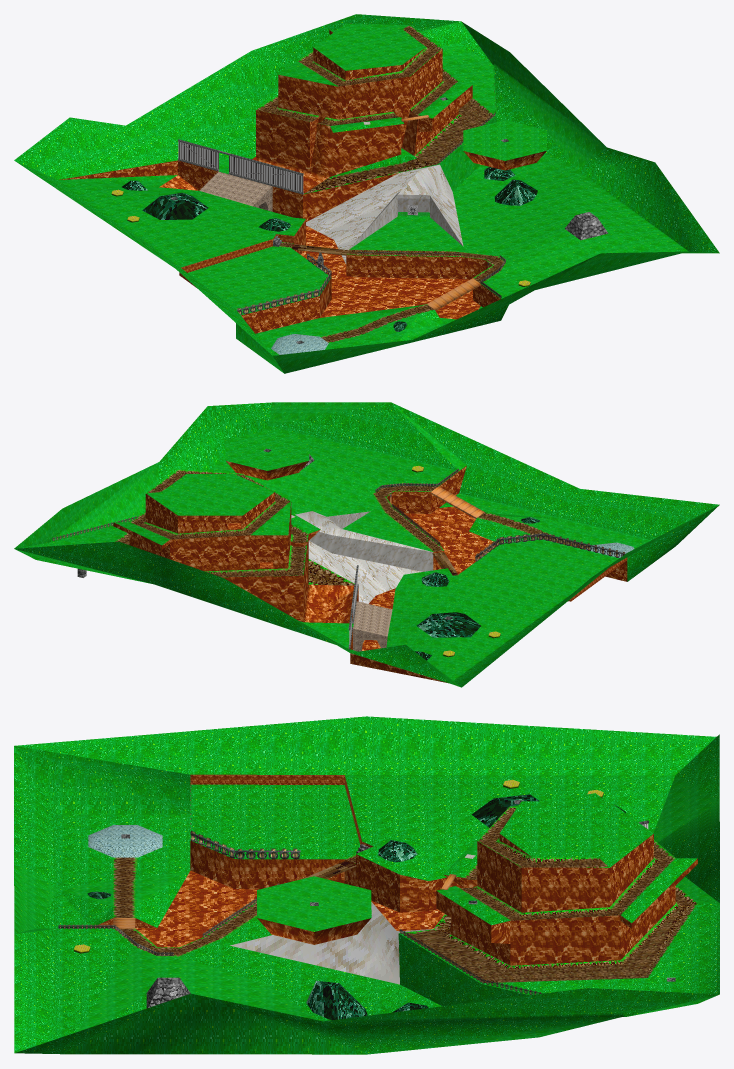
Rendered from map.glb.
3 views of the same model, one above another, from view 1: azimuth 30°, elevation 25°; view 2: azimuth 150°, elevation 25°; view 3: azimuth 270°, elevation 25° (orthographic). The views are drawn at different scales.
Parts seen in each view (by area): view 1: Object_2.001; view 2: Object_2.001; view 3: Object_2.001.
Part boxes in pixels (x1=…): Object_2.001: x1=14, y1=14, x2=719, y2=373; Object_2.001: x1=14, y1=402, x2=719, y2=687; Object_2.001: x1=14, y1=716, x2=719, y2=1054.
Size of the model in its own units: 253 by 72.06 by 253.
25 materials, 25 textured.
